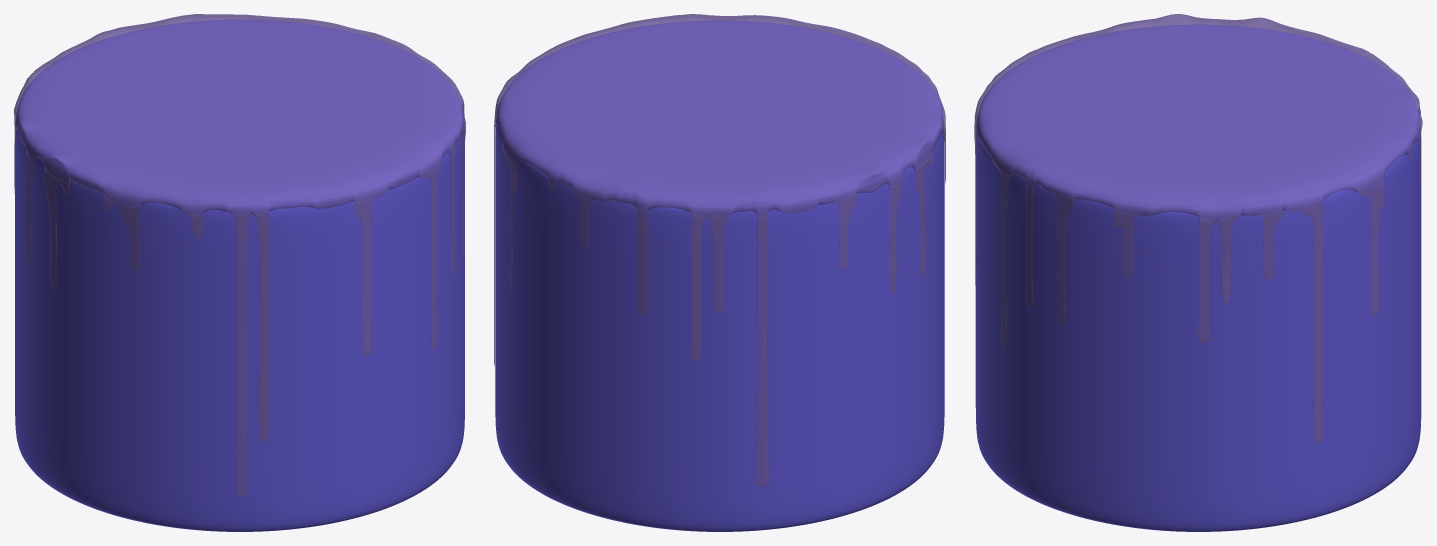
File: Cake_Layer_1_Purple_PurpleDrip.glb
3 renders of one model, left to right at view 1: azimuth 30°, elevation 25°; view 2: azimuth 150°, elevation 25°; view 3: azimuth 270°, elevation 25°, orthographic.
Parts seen in each view (by area): view 1: Circle, Circle.001; view 2: Circle, Circle.001; view 3: Circle, Circle.001.
Part boxes in pixels (x1,y1,x2,y2): Circle: [15, 20, 464, 531]; Circle.001: [14, 14, 465, 496]; Circle: [495, 20, 944, 531]; Circle.001: [494, 14, 945, 486]; Circle: [975, 25, 1421, 531]; Circle.001: [974, 14, 1422, 443].
Bounding box in the file's own units: 0.1501 × 0.1237 × 0.1499.
